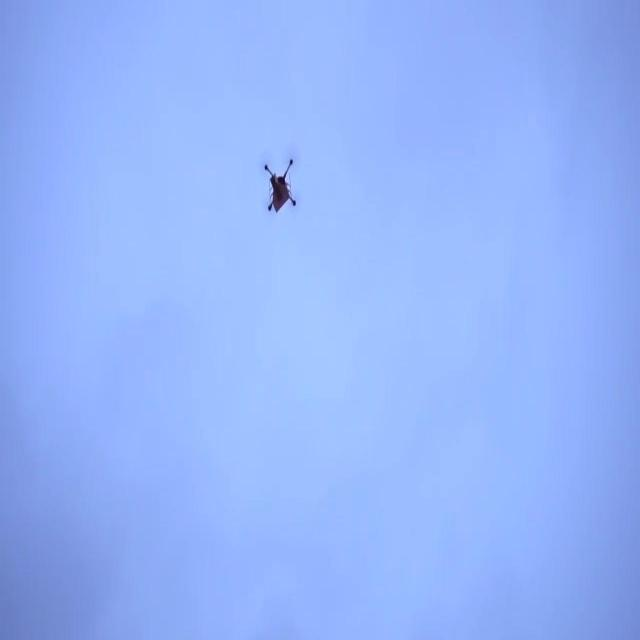drone: (262, 156, 298, 214)
